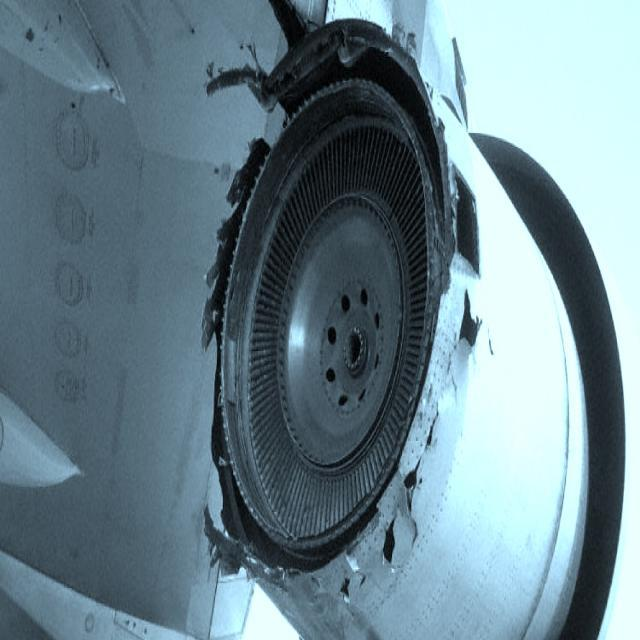crack: (335, 279, 487, 600), (202, 63, 255, 580)
